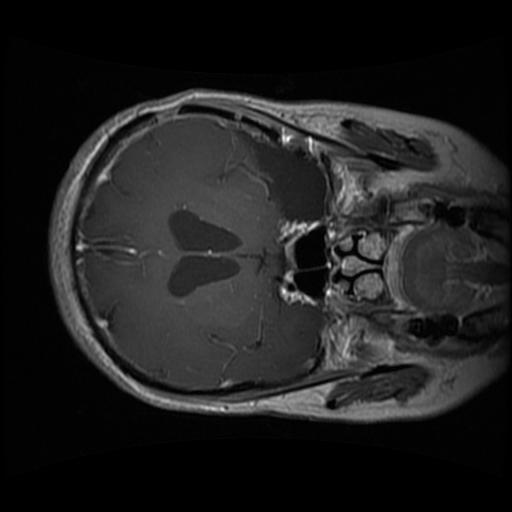glioma: (233, 129, 324, 222)
